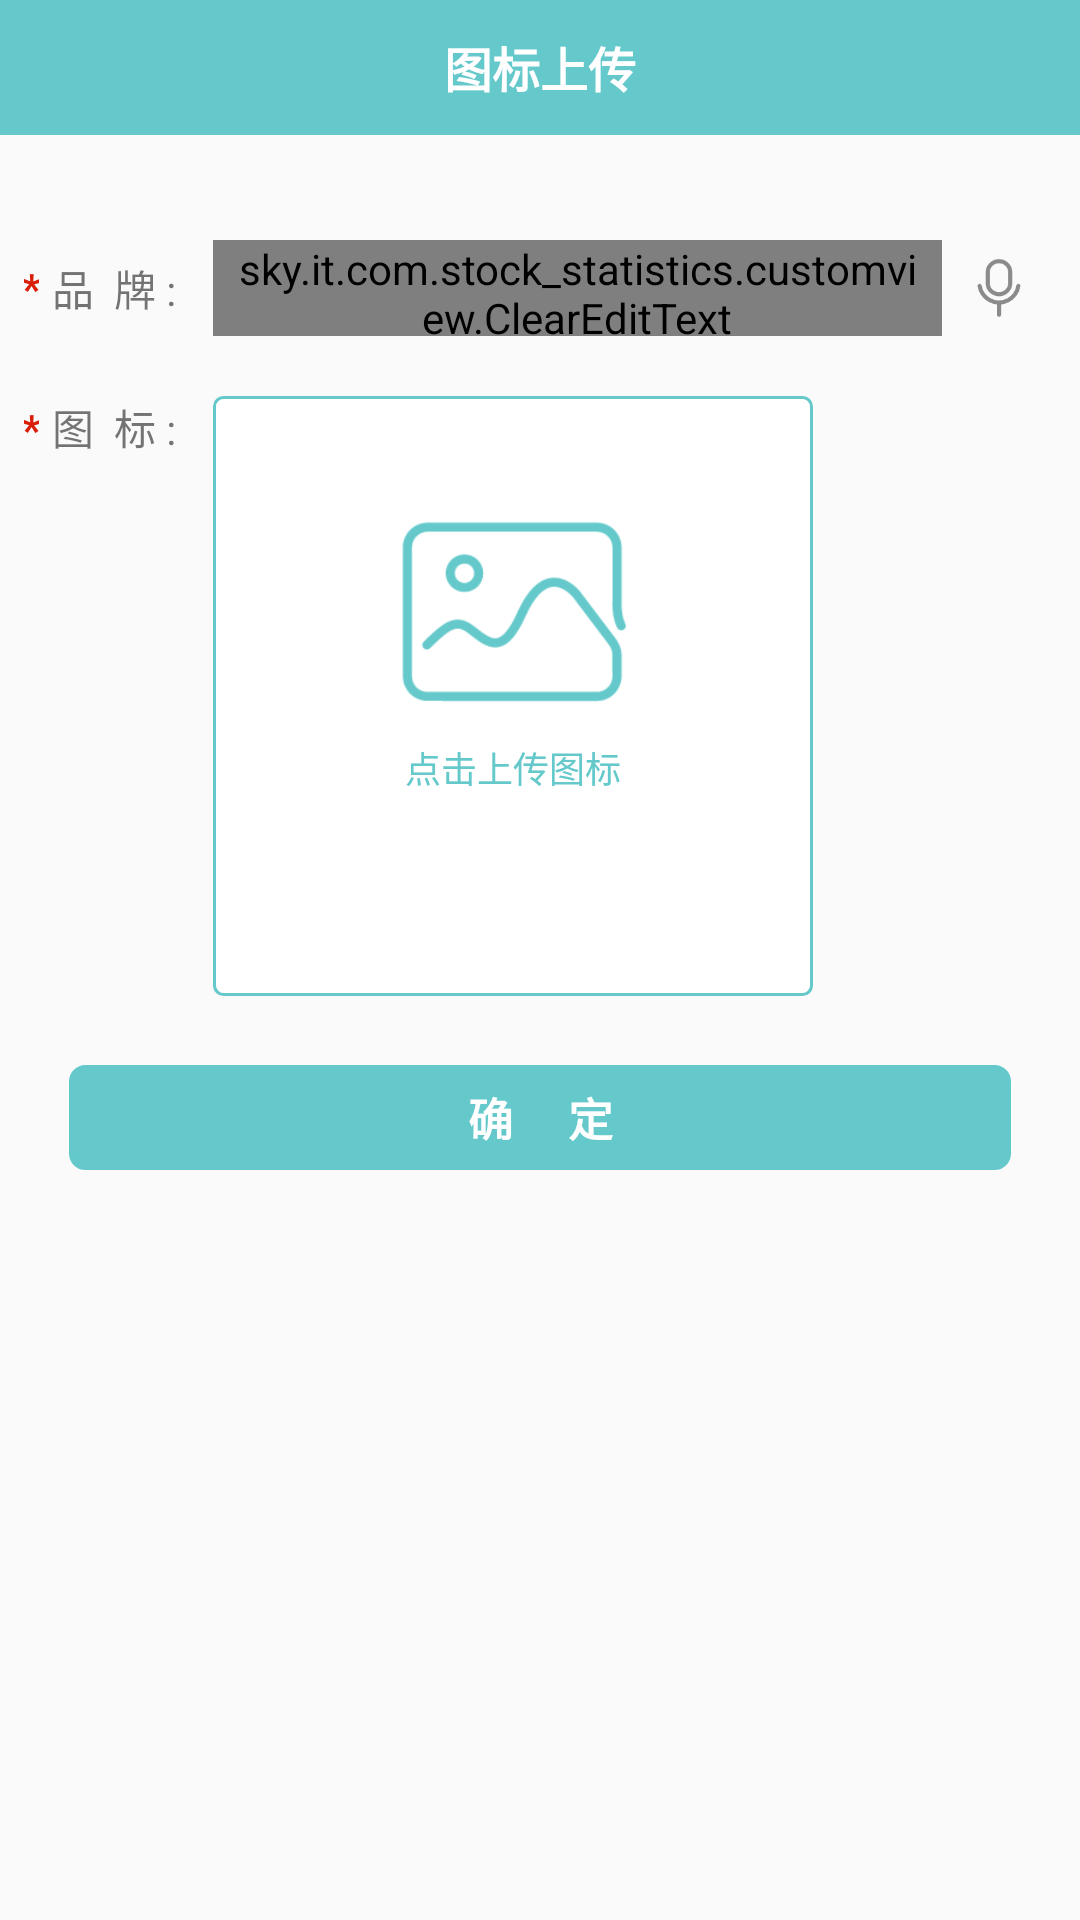

Named icons in this screenshot (1080*1920) and their centers, (x,y):
record unuse: (999,288)
